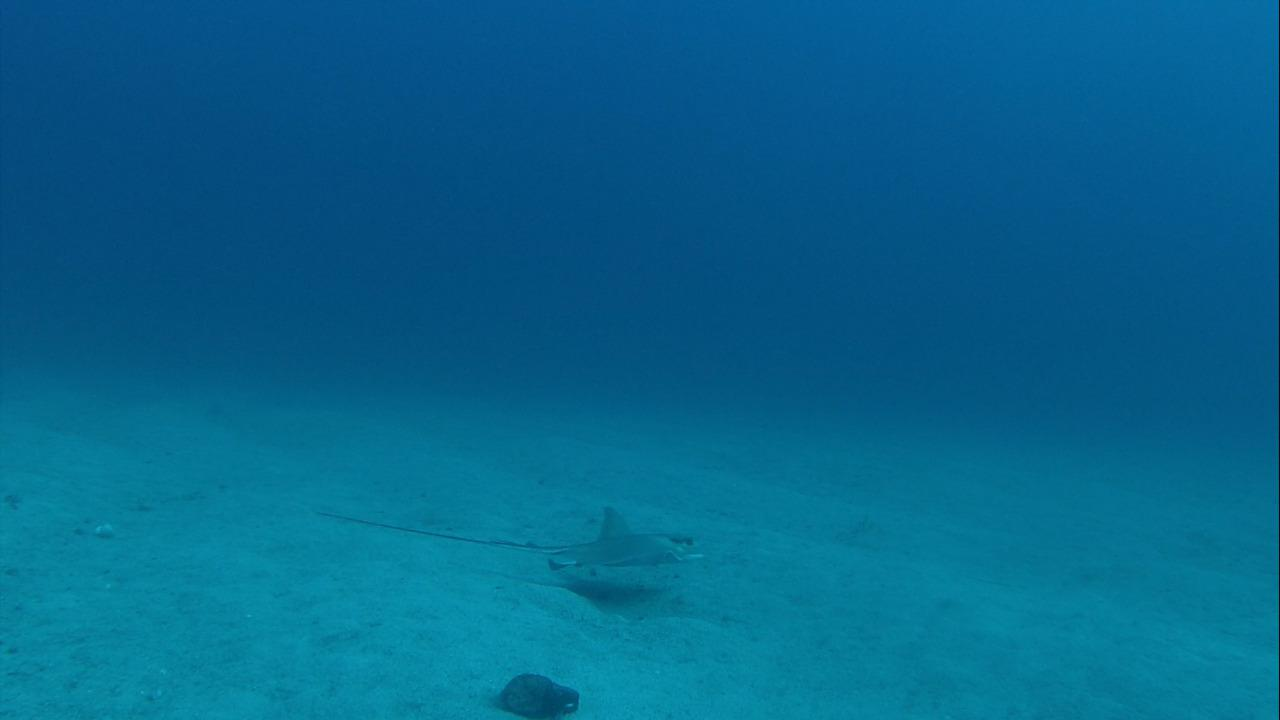myliobatis: (316, 499, 706, 599)
